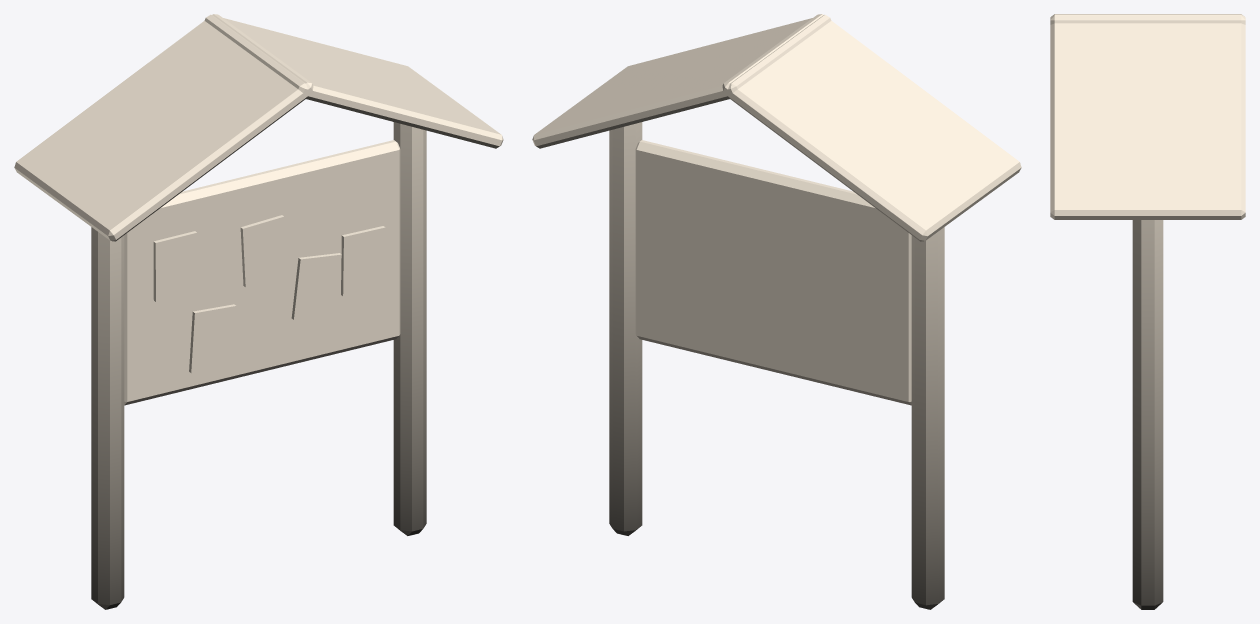
The model's file is SM_VK_Prop_NoticeBoard.fbx.
The picture shows the model from 3 angles, left to right: view 1: azimuth 30°, elevation 25°; view 2: azimuth 150°, elevation 25°; view 3: azimuth 270°, elevation 25°; orthographic projection.
Visible parts, largest first — view 1: SM_VK_Prop_NoticeBoard.001; view 2: SM_VK_Prop_NoticeBoard.001; view 3: SM_VK_Prop_NoticeBoard.001.
Part boxes in pixels (x1=…): SM_VK_Prop_NoticeBoard.001: x1=14, y1=14, x2=503, y2=609; SM_VK_Prop_NoticeBoard.001: x1=532, y1=14, x2=1021, y2=609; SM_VK_Prop_NoticeBoard.001: x1=1050, y1=14, x2=1245, y2=609.
Size of the model in its own units: 2.09 by 2.63 by 0.9.
